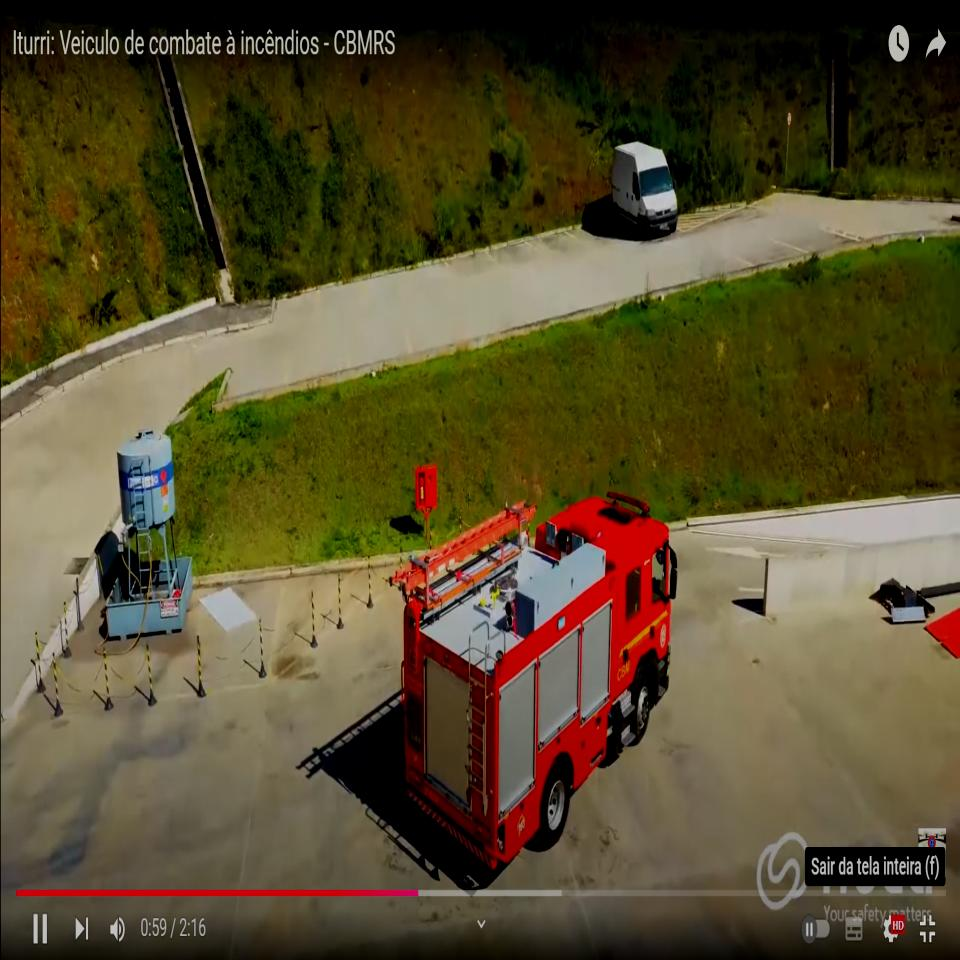bombeiro: (387, 482, 681, 877)
